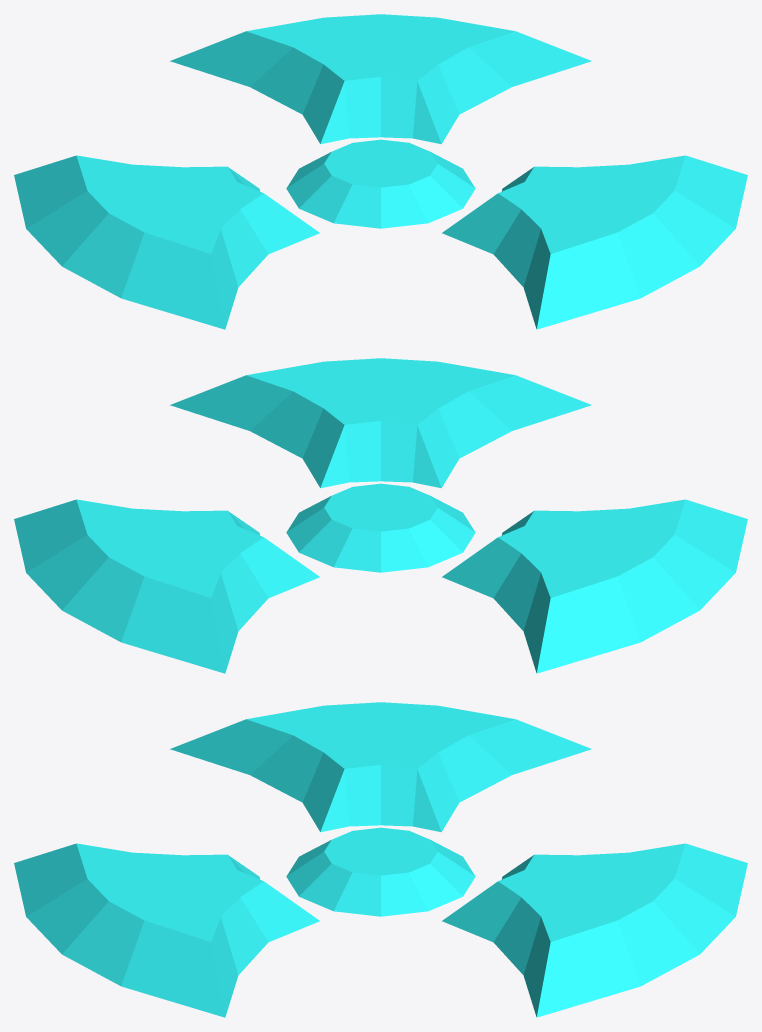
File: ObrazeniaWCzasie.fbx
3 renders of one model, top to bottom at view 1: azimuth 30°, elevation 25°; view 2: azimuth 150°, elevation 25°; view 3: azimuth 270°, elevation 25°, orthographic.
Parts seen in each view (by area): view 1: Cylinder; view 2: Cylinder; view 3: Cylinder.
Part boxes in pixels (left/top/right/bottom): Cylinder: left=14, top=14, right=747, bottom=329; Cylinder: left=14, top=358, right=747, bottom=673; Cylinder: left=14, top=702, right=747, bottom=1017.
Bounding box in the file's own units: 419 × 27.5 × 438.
